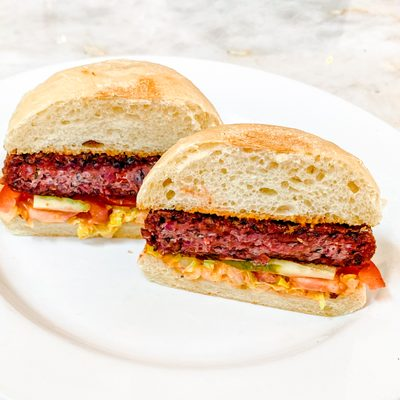soup: (134, 123, 387, 319), (0, 59, 225, 240)
